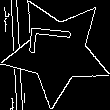L_E: (31, 33, 83, 69)
